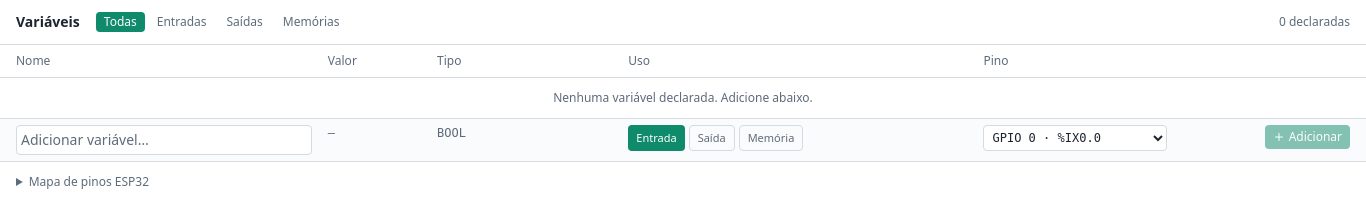
Test case: PainelVariaveis — declarar via núcleo › escolhendo outro pino no seletor, declara com o pino escolhido
Type "entrada" into the field named "Nome da nova variável" at coordinates (164, 140), box [16,125,312,155]
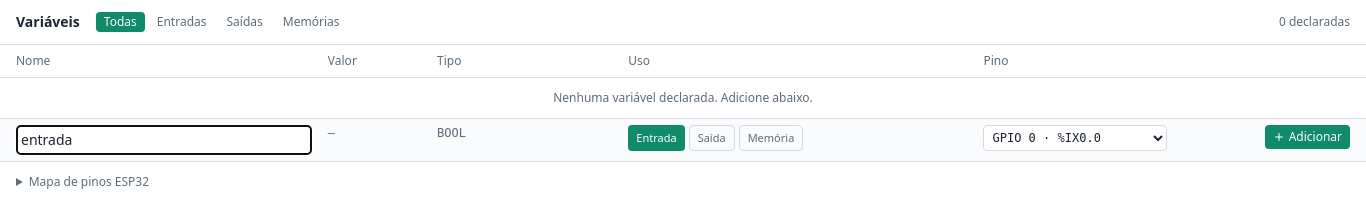
Select "GPIO 18 · %IX0.1" in the dropdown named "Pino da nova variável" at coordinates (1075, 138), box [984,125,1167,151]
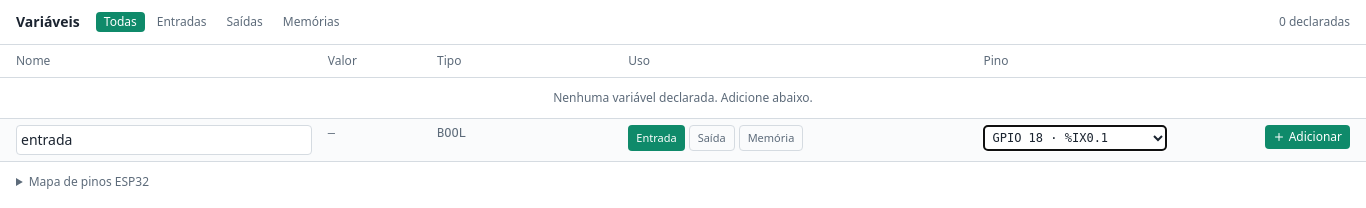
Click the button "Adicionar" at coordinates (1307, 137), box [1265,125,1350,149]
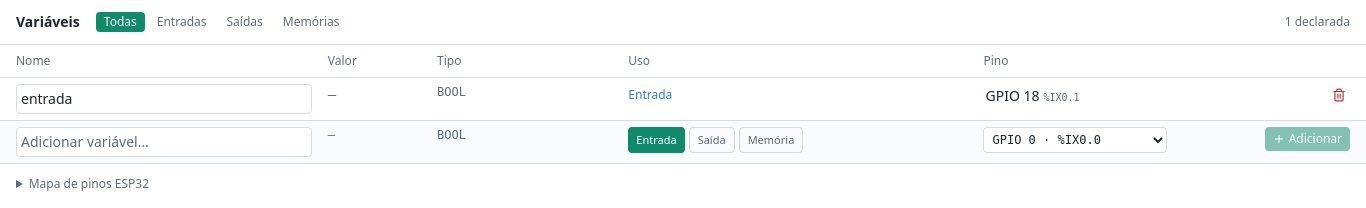
Click the button with aria-label "Alterar pino de entrada" at coordinates (1075, 96), box [984,84,1167,108]
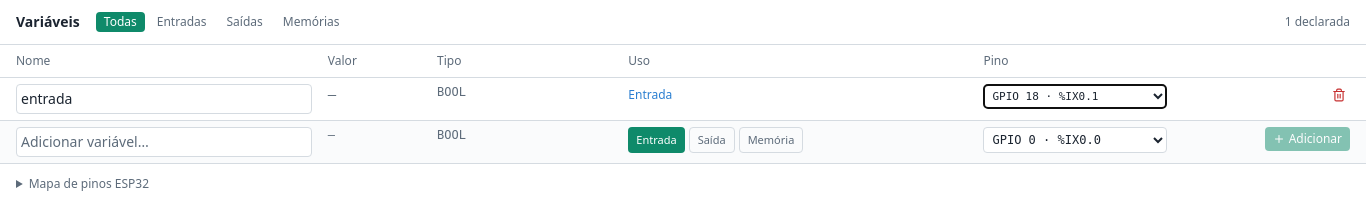
Now the dropdown named "Pino da variável entrada" shows "GPIO 18 · %IX0.1", box [984,84,1167,109]
